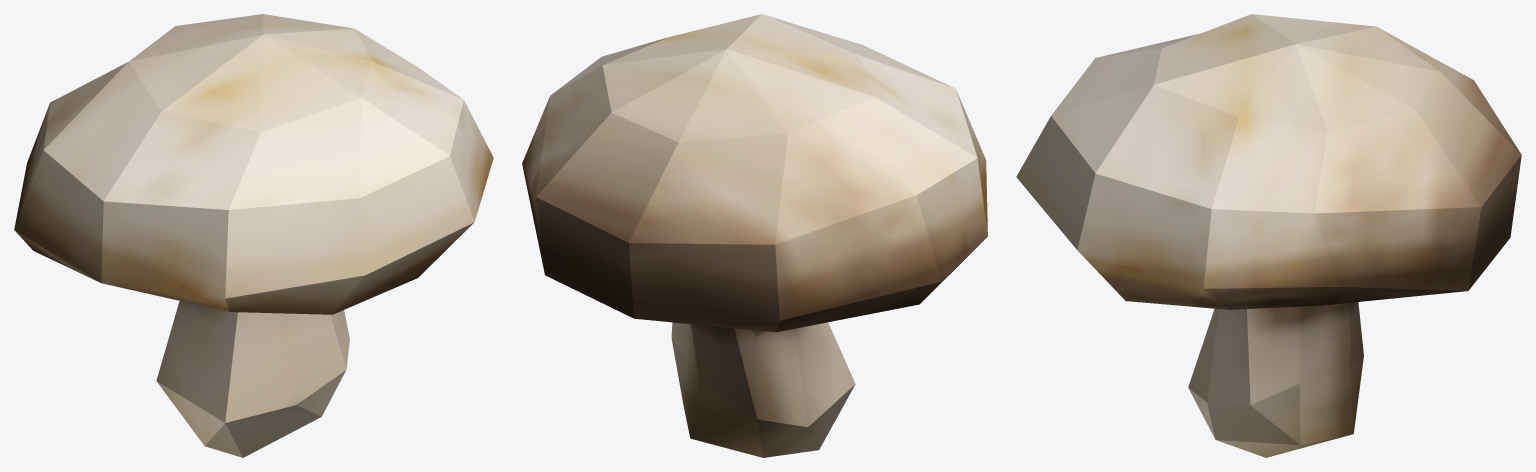
Rendered from soup-shroom.glb.
The picture shows the model from 3 angles, left to right: view 1: azimuth 30°, elevation 25°; view 2: azimuth 150°, elevation 25°; view 3: azimuth 270°, elevation 25°; orthographic projection. The views are drawn at different scales.
Parts seen in each view (by area): view 1: soup-shroom; view 2: soup-shroom; view 3: soup-shroom.
Boxes of the visible parts, <box> form: soup-shroom: <box>14,14,493,457</box>; soup-shroom: <box>522,14,987,457</box>; soup-shroom: <box>1016,14,1521,457</box>.
Size of the model in its own units: 0.2501 by 0.2256 by 0.2462.
1 material, 1 textured.
